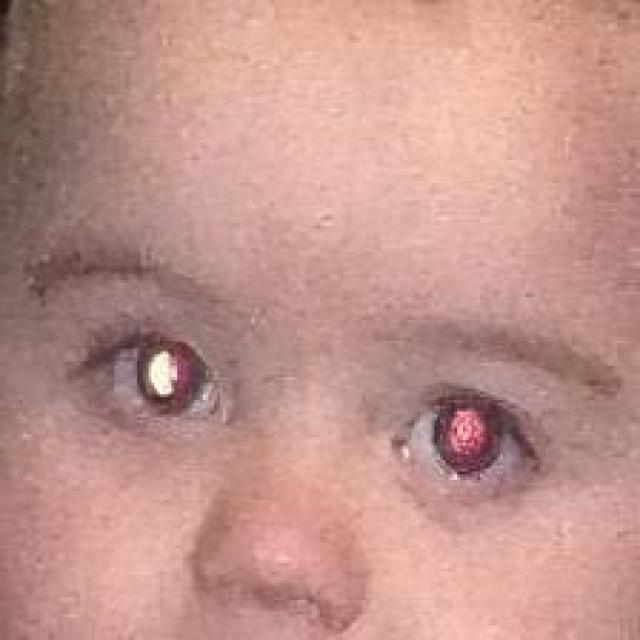reflexo-alterado: (109, 302, 231, 454)
reflexo-normal: (394, 370, 542, 504)
